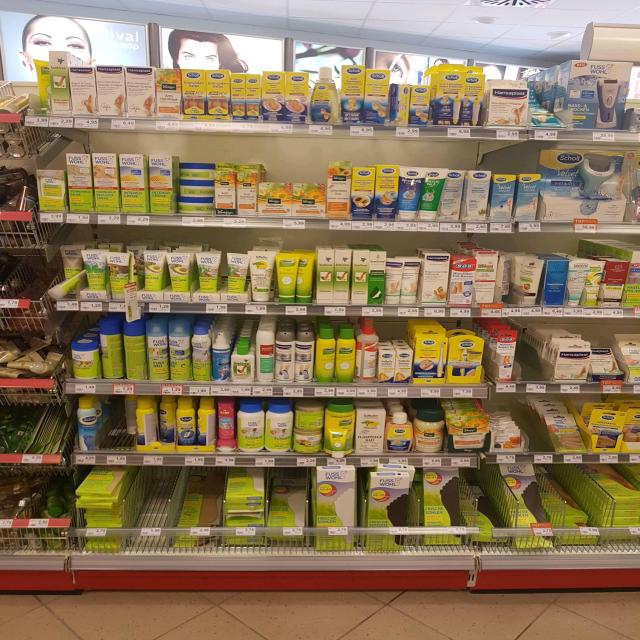empty: (135, 481, 168, 547), (518, 337, 537, 381), (107, 399, 123, 447), (524, 414, 542, 452)
